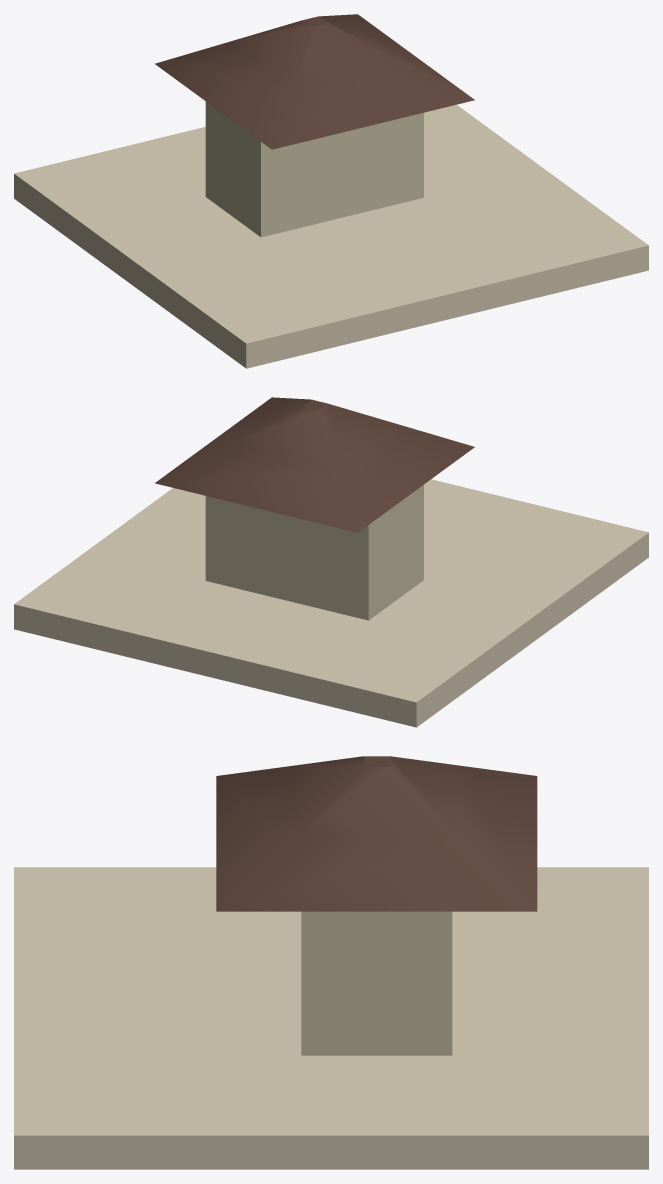
Rendered from cang_jing_qu.glb.
The picture shows the model from 3 angles, top to bottom: view 1: azimuth 30°, elevation 25°; view 2: azimuth 150°, elevation 25°; view 3: azimuth 270°, elevation 25°; orthographic projection. The views are drawn at different scales.
Visible parts, largest first — view 1: _MeshInstance3D_154, _MeshInstance3D_159, _MeshInstance3D_155; view 2: _MeshInstance3D_154, _MeshInstance3D_159, _MeshInstance3D_155; view 3: _MeshInstance3D_154, _MeshInstance3D_159, _MeshInstance3D_155.
Part boxes in pixels (x1,y1,x2,y2): _MeshInstance3D_154: [14, 104, 648, 368]; _MeshInstance3D_159: [155, 14, 474, 149]; _MeshInstance3D_155: [205, 101, 423, 237]; _MeshInstance3D_154: [14, 479, 648, 727]; _MeshInstance3D_159: [155, 397, 474, 532]; _MeshInstance3D_155: [205, 485, 423, 620]; _MeshInstance3D_154: [14, 867, 648, 1169]; _MeshInstance3D_159: [216, 756, 537, 911]; _MeshInstance3D_155: [301, 911, 452, 1055].
Size of the model in its own units: 0.84 by 0.4 by 0.84.
